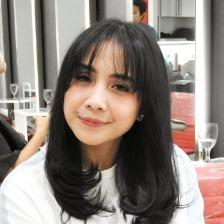Non hijab: (41, 13, 176, 219)
